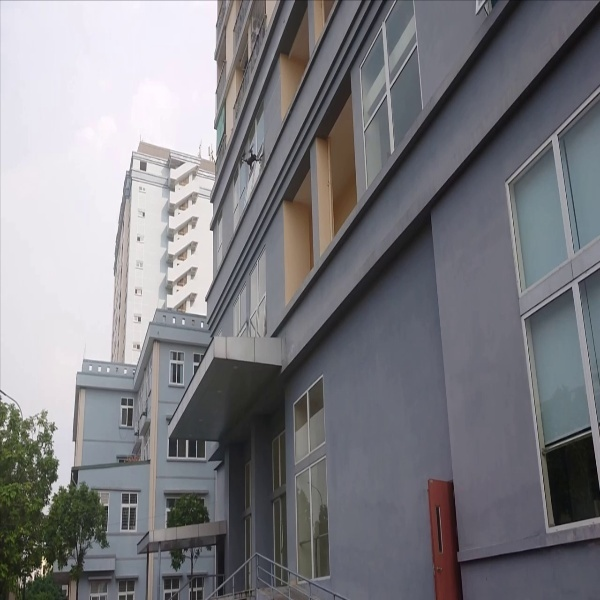drone: (237, 143, 268, 173)
